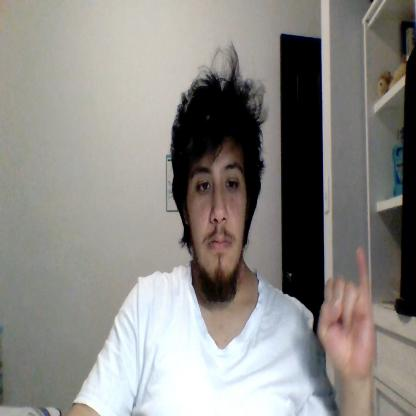I: (316, 247, 374, 380)
